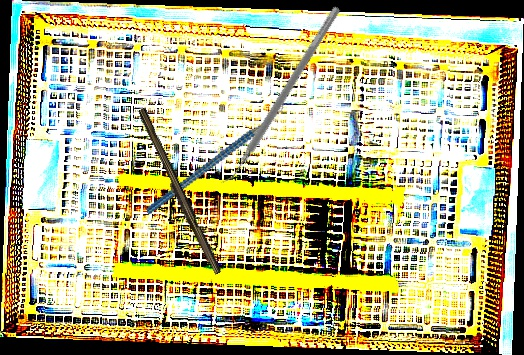Chopper: (125, 95, 307, 215)
Scalpel Handle: (132, 107, 225, 277)
Spatula Surgical: (216, 0, 342, 192)
